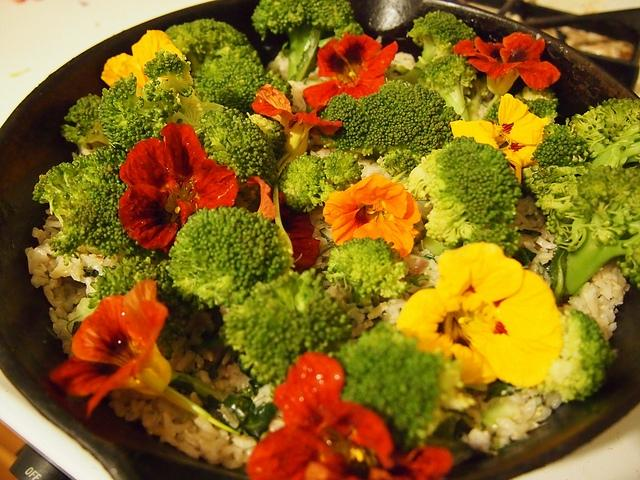broccoli: (327, 321, 476, 453), (224, 268, 374, 385), (62, 48, 225, 155), (31, 144, 158, 268), (407, 134, 524, 260), (317, 79, 463, 176), (545, 165, 640, 310), (164, 205, 292, 310), (165, 18, 292, 118), (251, 2, 355, 82), (534, 308, 618, 404), (530, 100, 640, 169), (196, 107, 279, 188), (322, 237, 412, 307), (464, 380, 552, 449), (279, 150, 364, 213), (88, 255, 165, 310), (417, 54, 478, 122), (406, 10, 478, 62), (518, 98, 559, 123)
